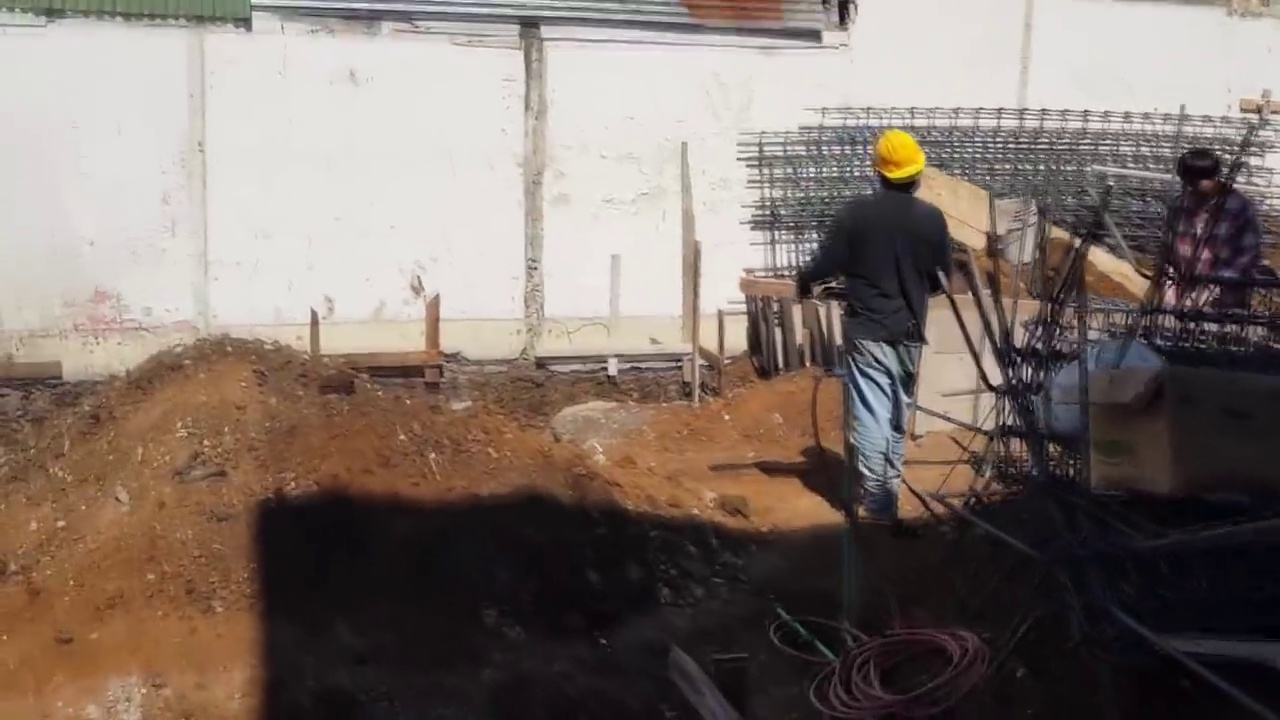helmet: (873, 130, 927, 179)
helmet-off: (1177, 147, 1225, 204)
helmet-on: (868, 122, 931, 209)
person: (793, 113, 958, 538), (1150, 148, 1253, 337)
